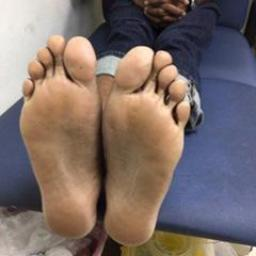Plantar View -Both Feet-: (11, 26, 196, 250)
